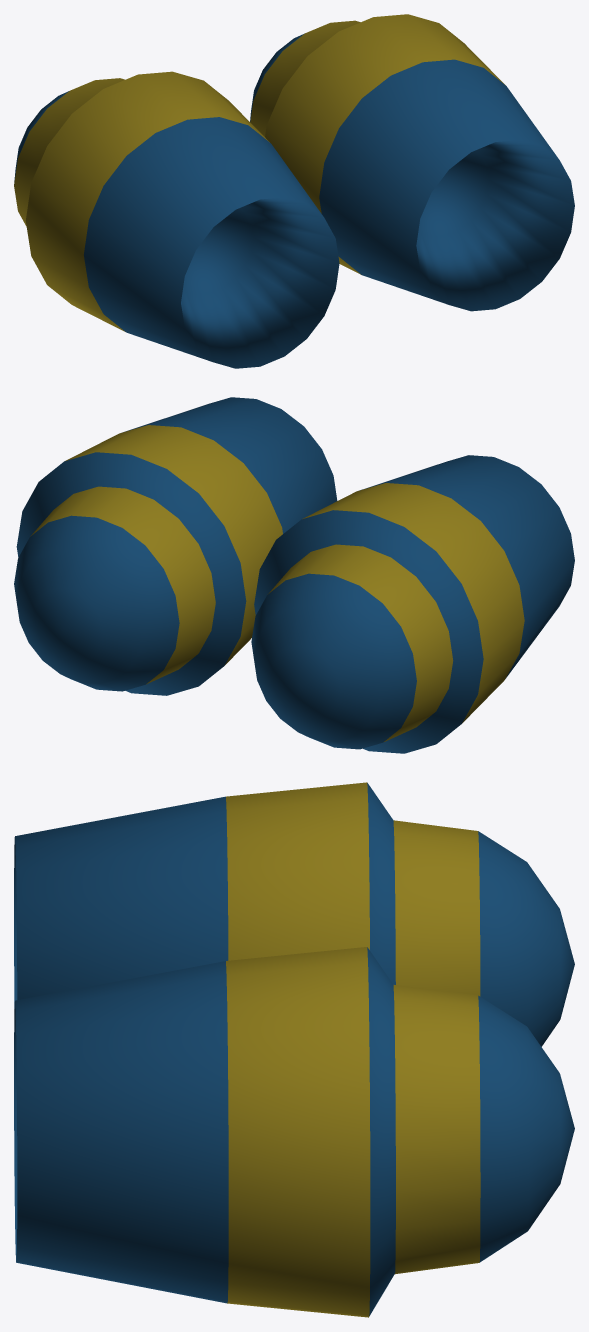
The model's file is ALLIANCEENGINE3.fbx.
3 views of the same model, one above another, from view 1: azimuth 30°, elevation 25°; view 2: azimuth 150°, elevation 25°; view 3: azimuth 270°, elevation 25° (orthographic). The views are drawn at different scales.
Parts seen in each view (by area): view 1: pCylinder20; view 2: pCylinder20; view 3: pCylinder20.
Boxes of the visible parts, box(x1,y1,x2,y2) form: pCylinder20: box(14, 14, 574, 368); pCylinder20: box(14, 397, 574, 753); pCylinder20: box(14, 782, 574, 1317).
Bounding box in the file's own units: 10.51 × 5.15 × 7.73.
